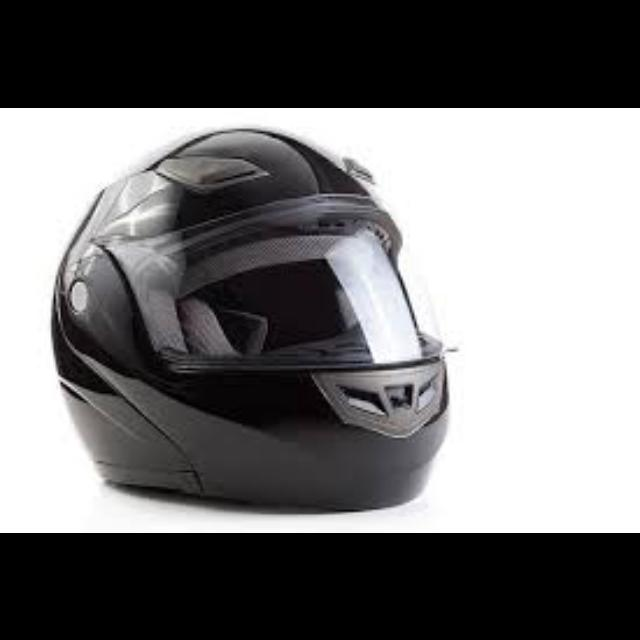motorcycle-helmets: (34, 121, 463, 517)
